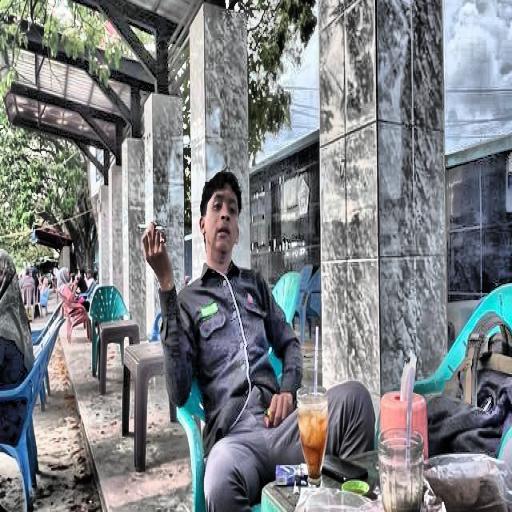Merokok: (140, 223, 147, 229), (158, 225, 162, 229)
